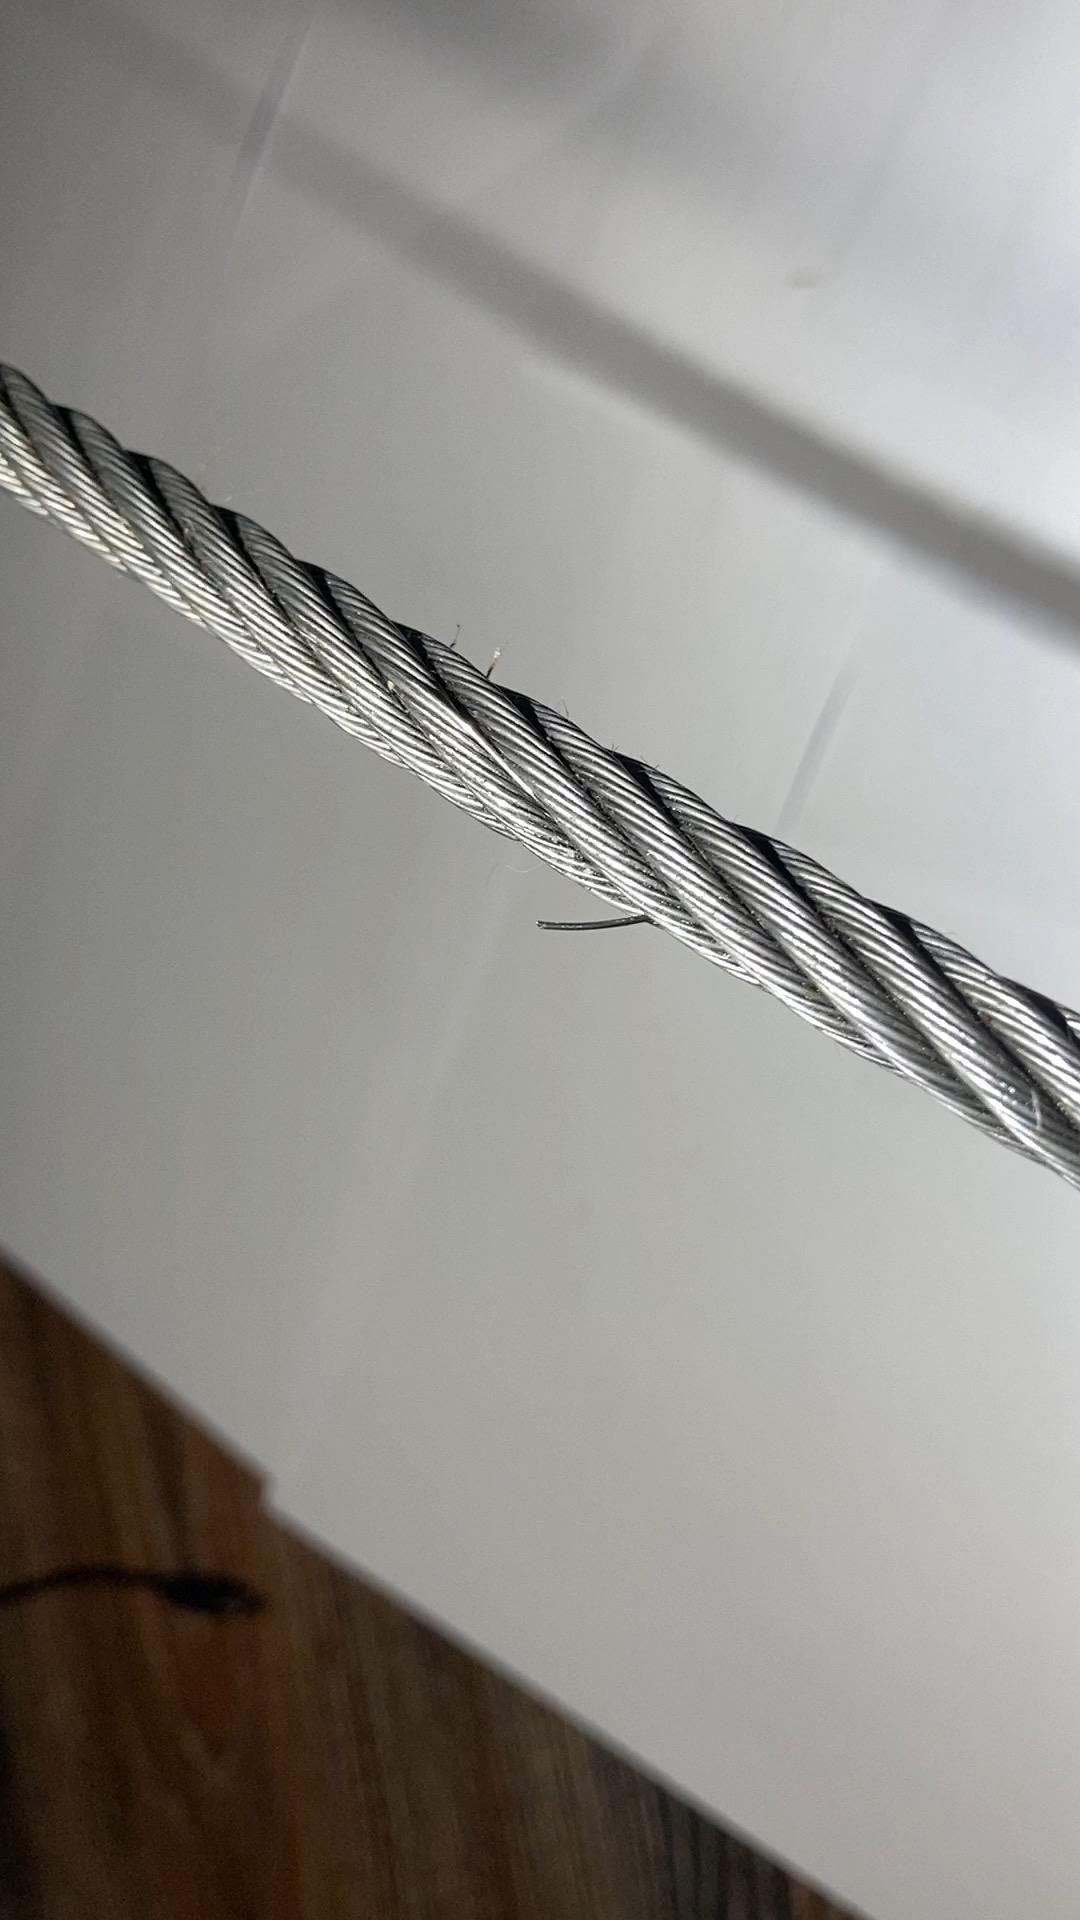break: (512, 860, 671, 965)
